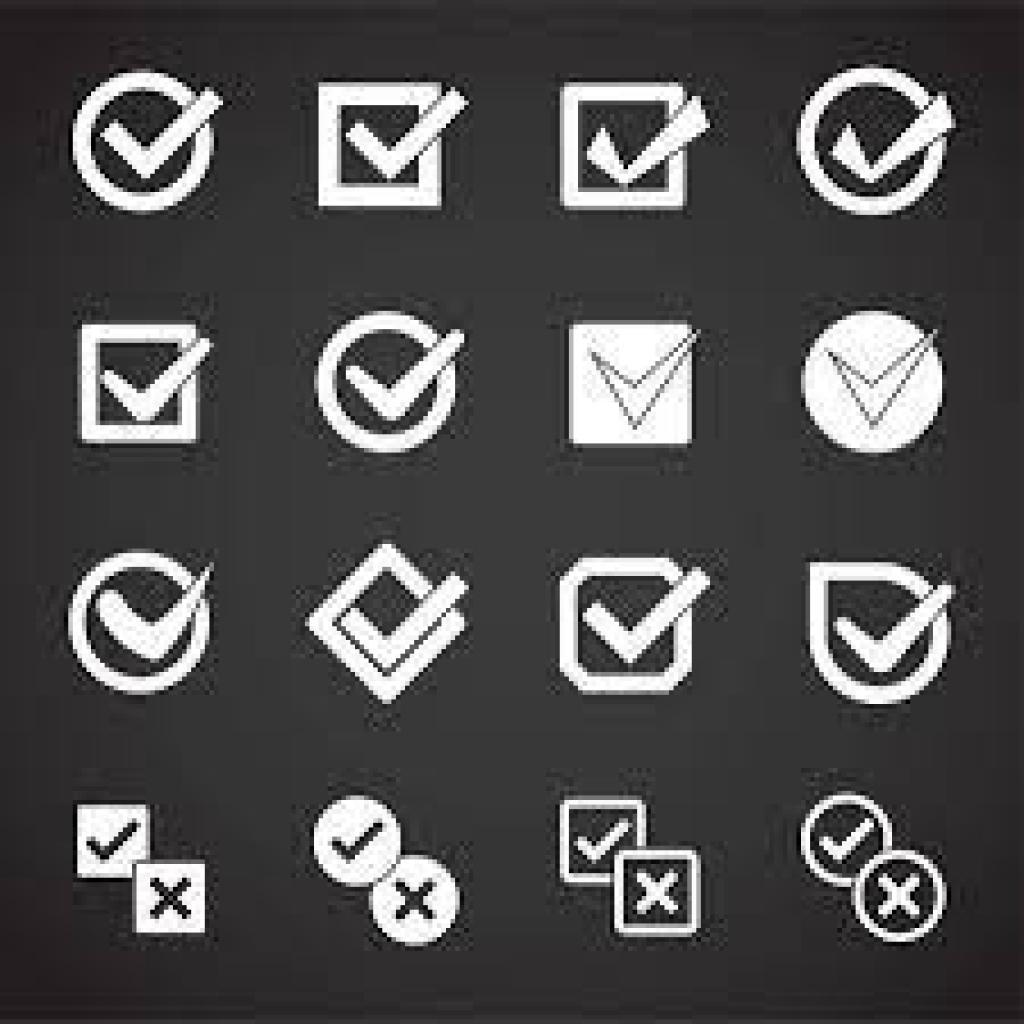checkbox: (304, 541, 468, 706), (795, 69, 959, 218), (808, 560, 957, 713), (316, 311, 468, 457), (70, 73, 224, 216), (70, 549, 216, 698), (558, 557, 713, 695), (801, 312, 945, 455), (318, 81, 472, 211), (559, 84, 712, 213), (569, 321, 704, 446), (78, 323, 215, 444), (855, 850, 947, 945), (315, 795, 403, 890), (614, 850, 702, 936), (135, 861, 206, 935)
